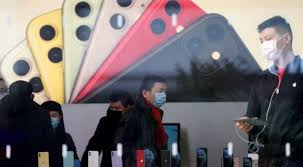mask: (256, 25, 284, 62), (148, 78, 168, 109), (45, 107, 62, 129), (109, 98, 126, 120)
